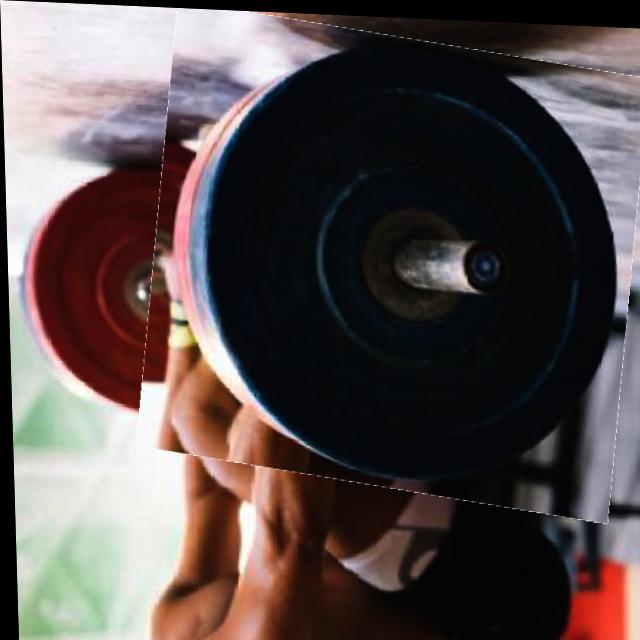barbell: (138, 12, 640, 508)
